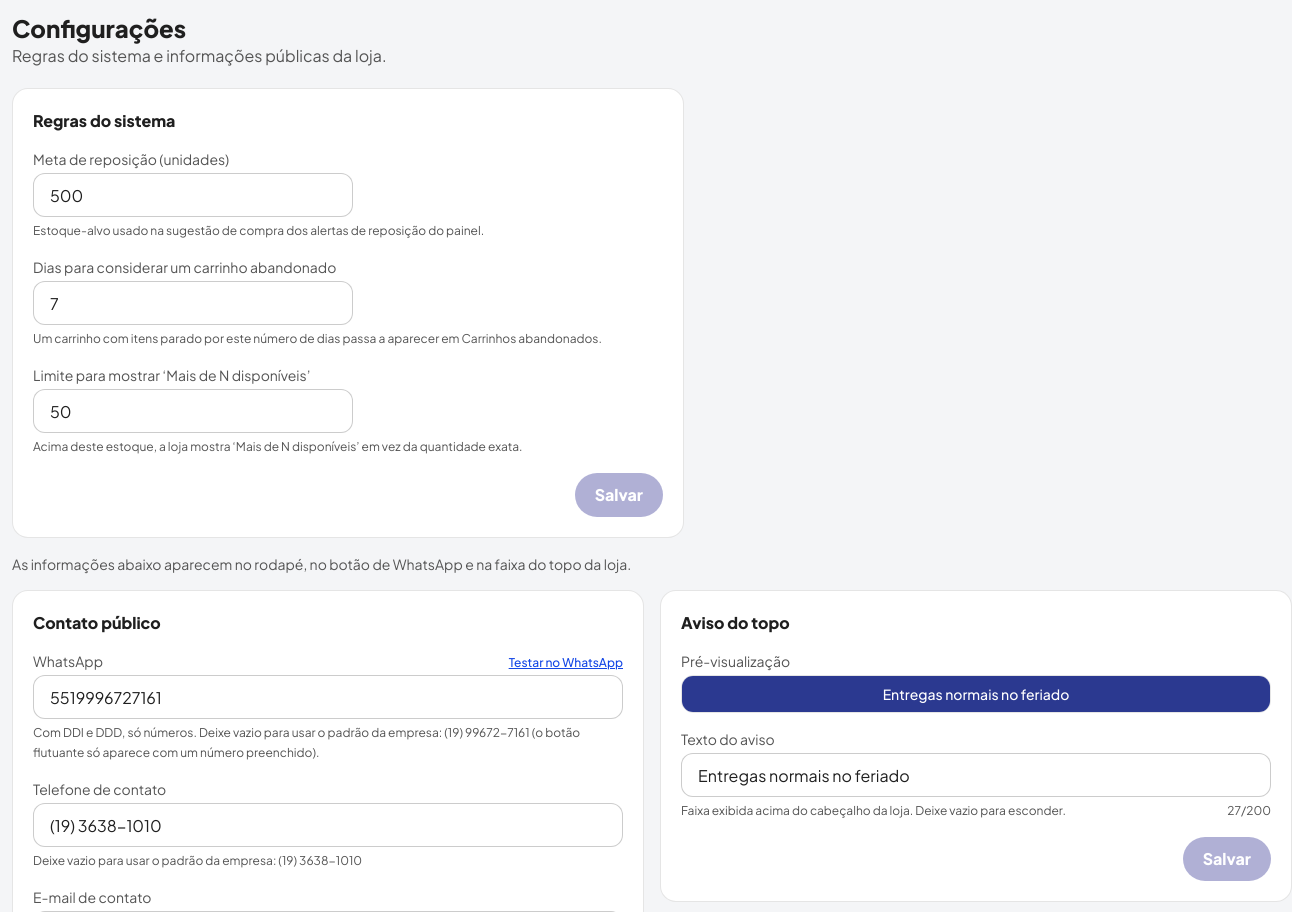
Test case: Configurações: regras do sistema › salvar envia PUT só dos campos alterados (valor numérico) e a base passa a ser o novo valor
This screenshot has width=1292, height=912.
Replace the text in the number field labelled "Meta de reposição (unidades)" with "800" at [193, 195], box [33,173,353,217]
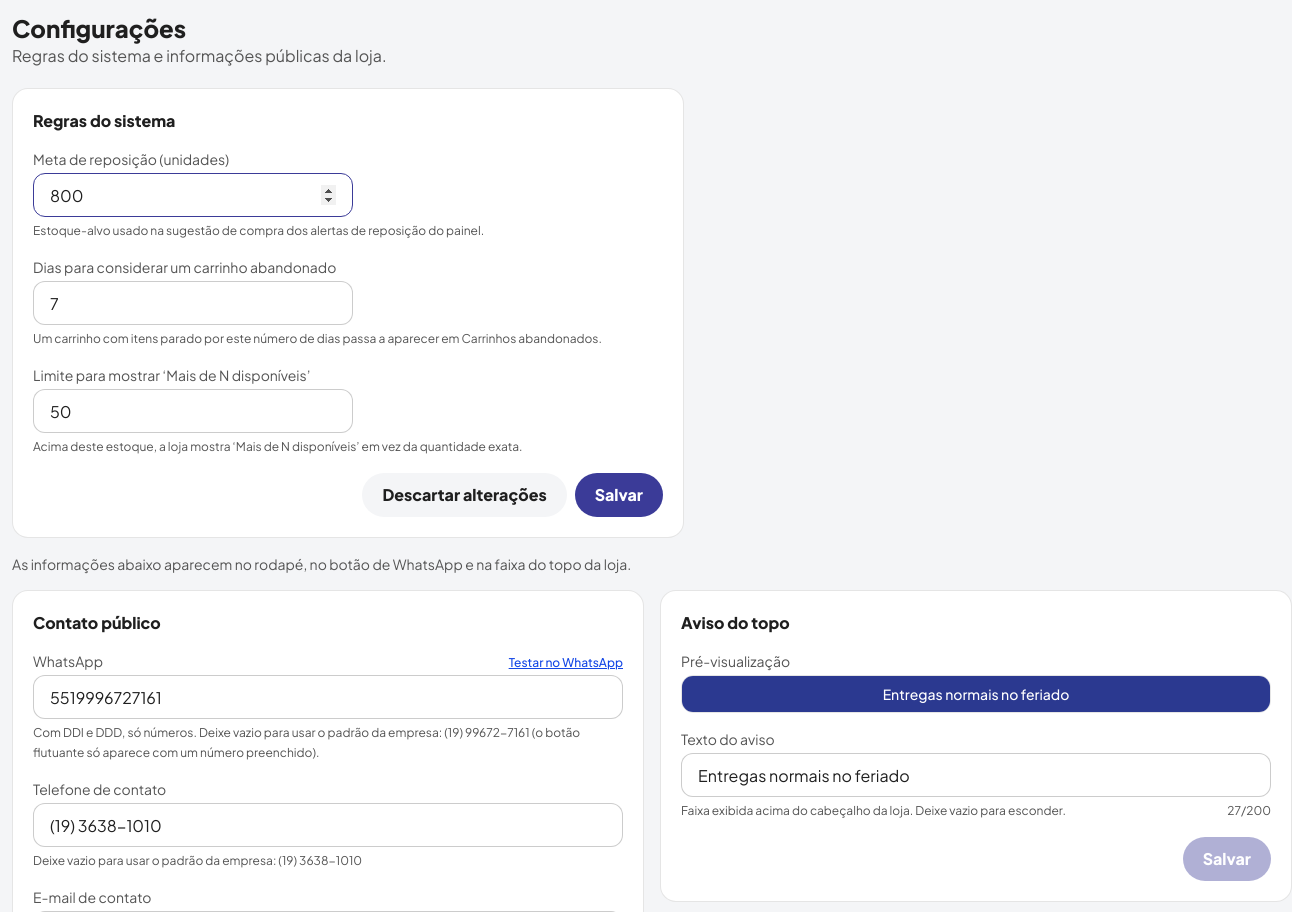
Click the 1st button "Salvar".
click(619, 495)  # box [575,473,663,517]
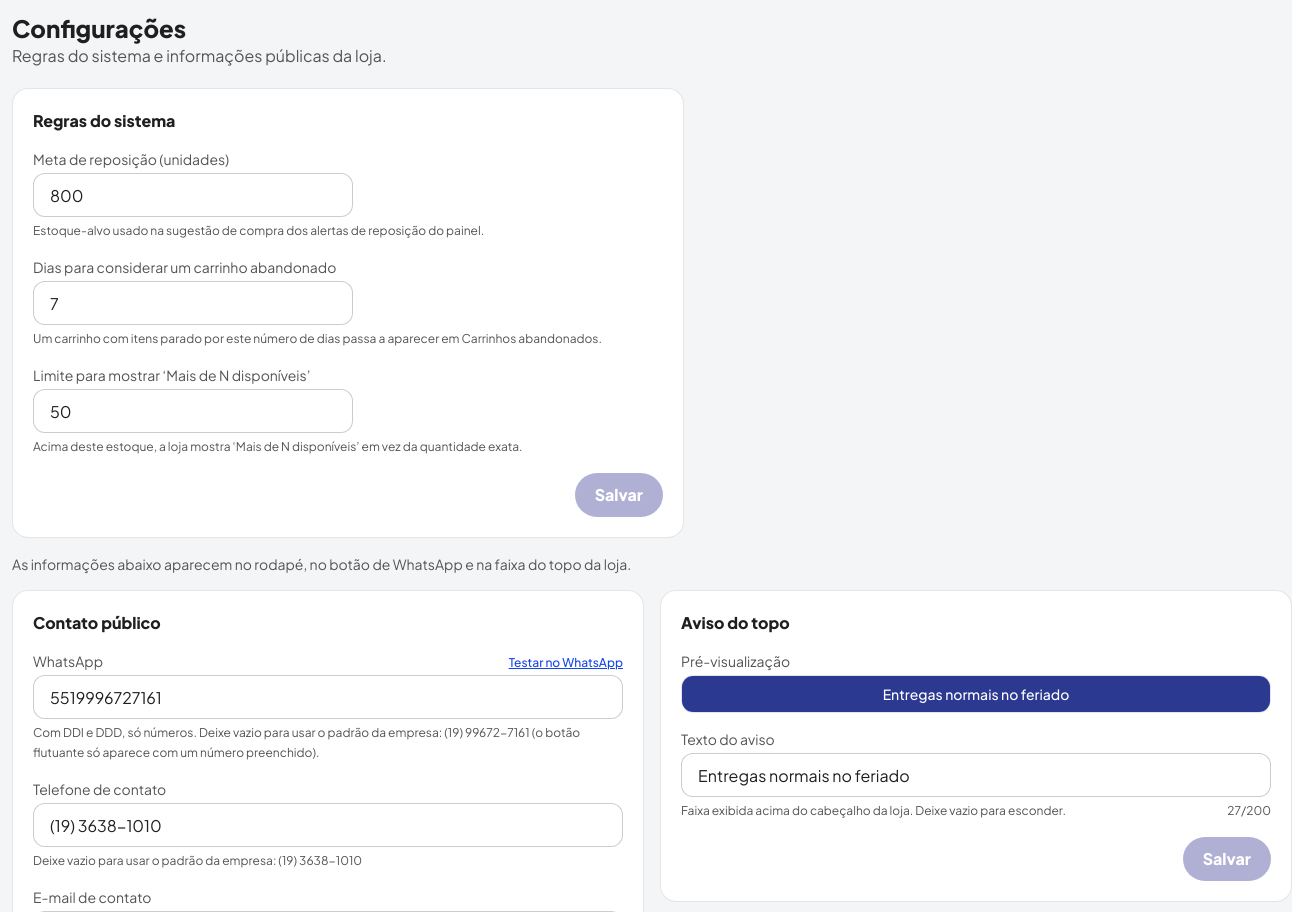
Expected: the 1st button "Salvar" is disabled, [575,473,663,517]
Expected: the button "Descartar alterações" is gone
